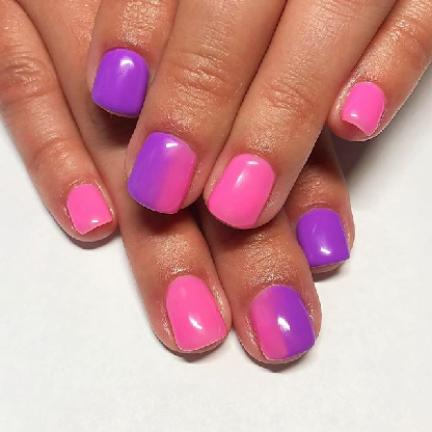Nail: (127, 132, 197, 213), (207, 154, 276, 229), (250, 284, 316, 360), (166, 276, 228, 352), (92, 48, 149, 116), (296, 208, 349, 267), (341, 82, 385, 135), (67, 184, 113, 234)
